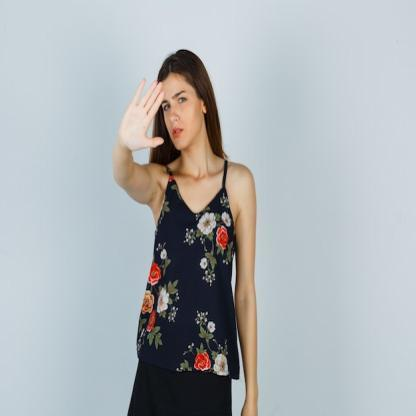stop: (118, 74, 168, 152)
